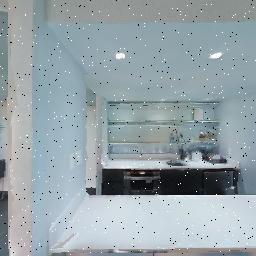table: (80, 182, 256, 256)
